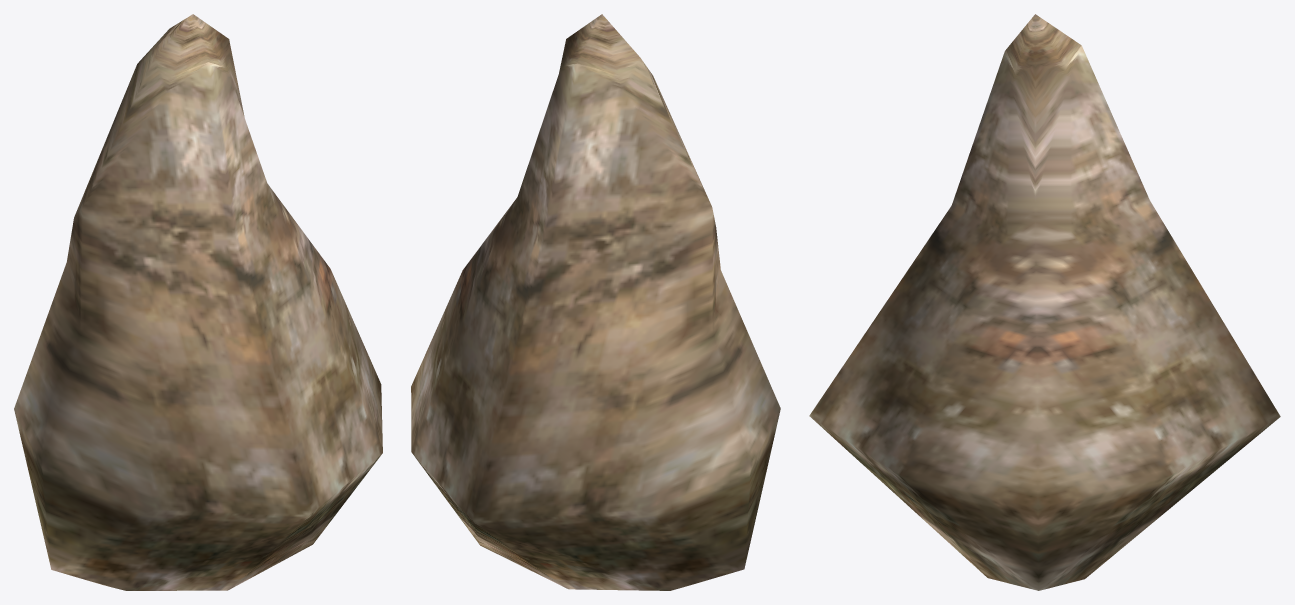
The model's file is thm_all_cave_stalagmite_c2_l1.fbx.
3 views of the same model, side by side, from view 1: azimuth 30°, elevation 25°; view 2: azimuth 150°, elevation 25°; view 3: azimuth 270°, elevation 25° (orthographic). The views are drawn at different scales.
Visible parts, largest first — view 1: mesh_node; view 2: mesh_node; view 3: mesh_node.
Boxes of the visible parts, x1,y1,x2,y2 form: mesh_node: (14, 14, 382, 590); mesh_node: (411, 14, 780, 590); mesh_node: (809, 14, 1280, 590).
Size of the model in its own units: 3.08 by 4.89 by 3.83.
